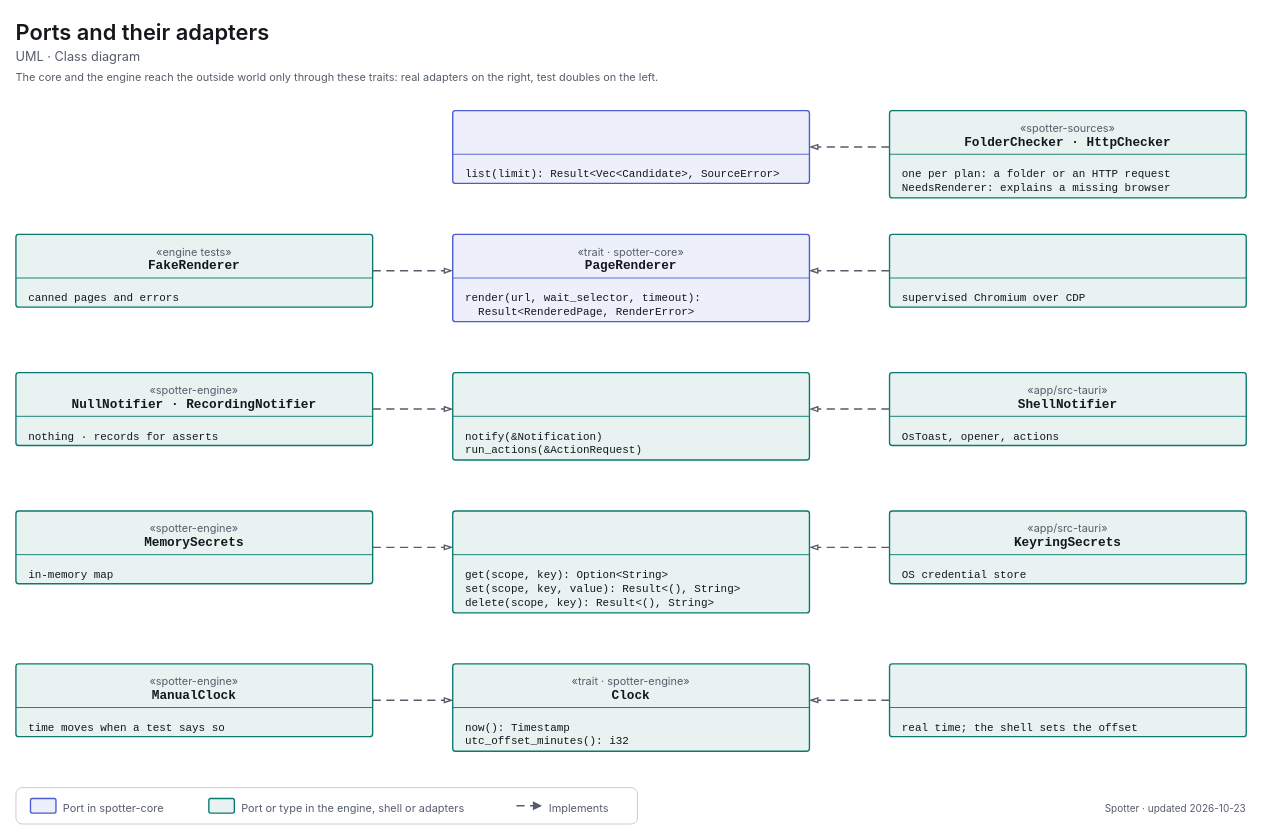
Image size: 1269x840. Some labels were removed from this diagram. The shapes that lost their labels are listed below. From the top down, each one's box as (x1, y1, x2, y2) in pixels, then its label:
(452, 109, 810, 184): «trait · spotter-core» ReleaseSource
(888, 233, 1247, 307): «spotter-render» ChromiumRenderer
(452, 372, 810, 460): «trait · spotter-engine» Notifier
(452, 510, 810, 613): «trait · spotter-engine» SecretStore
(888, 663, 1247, 737): «spotter-engine» SystemClock
